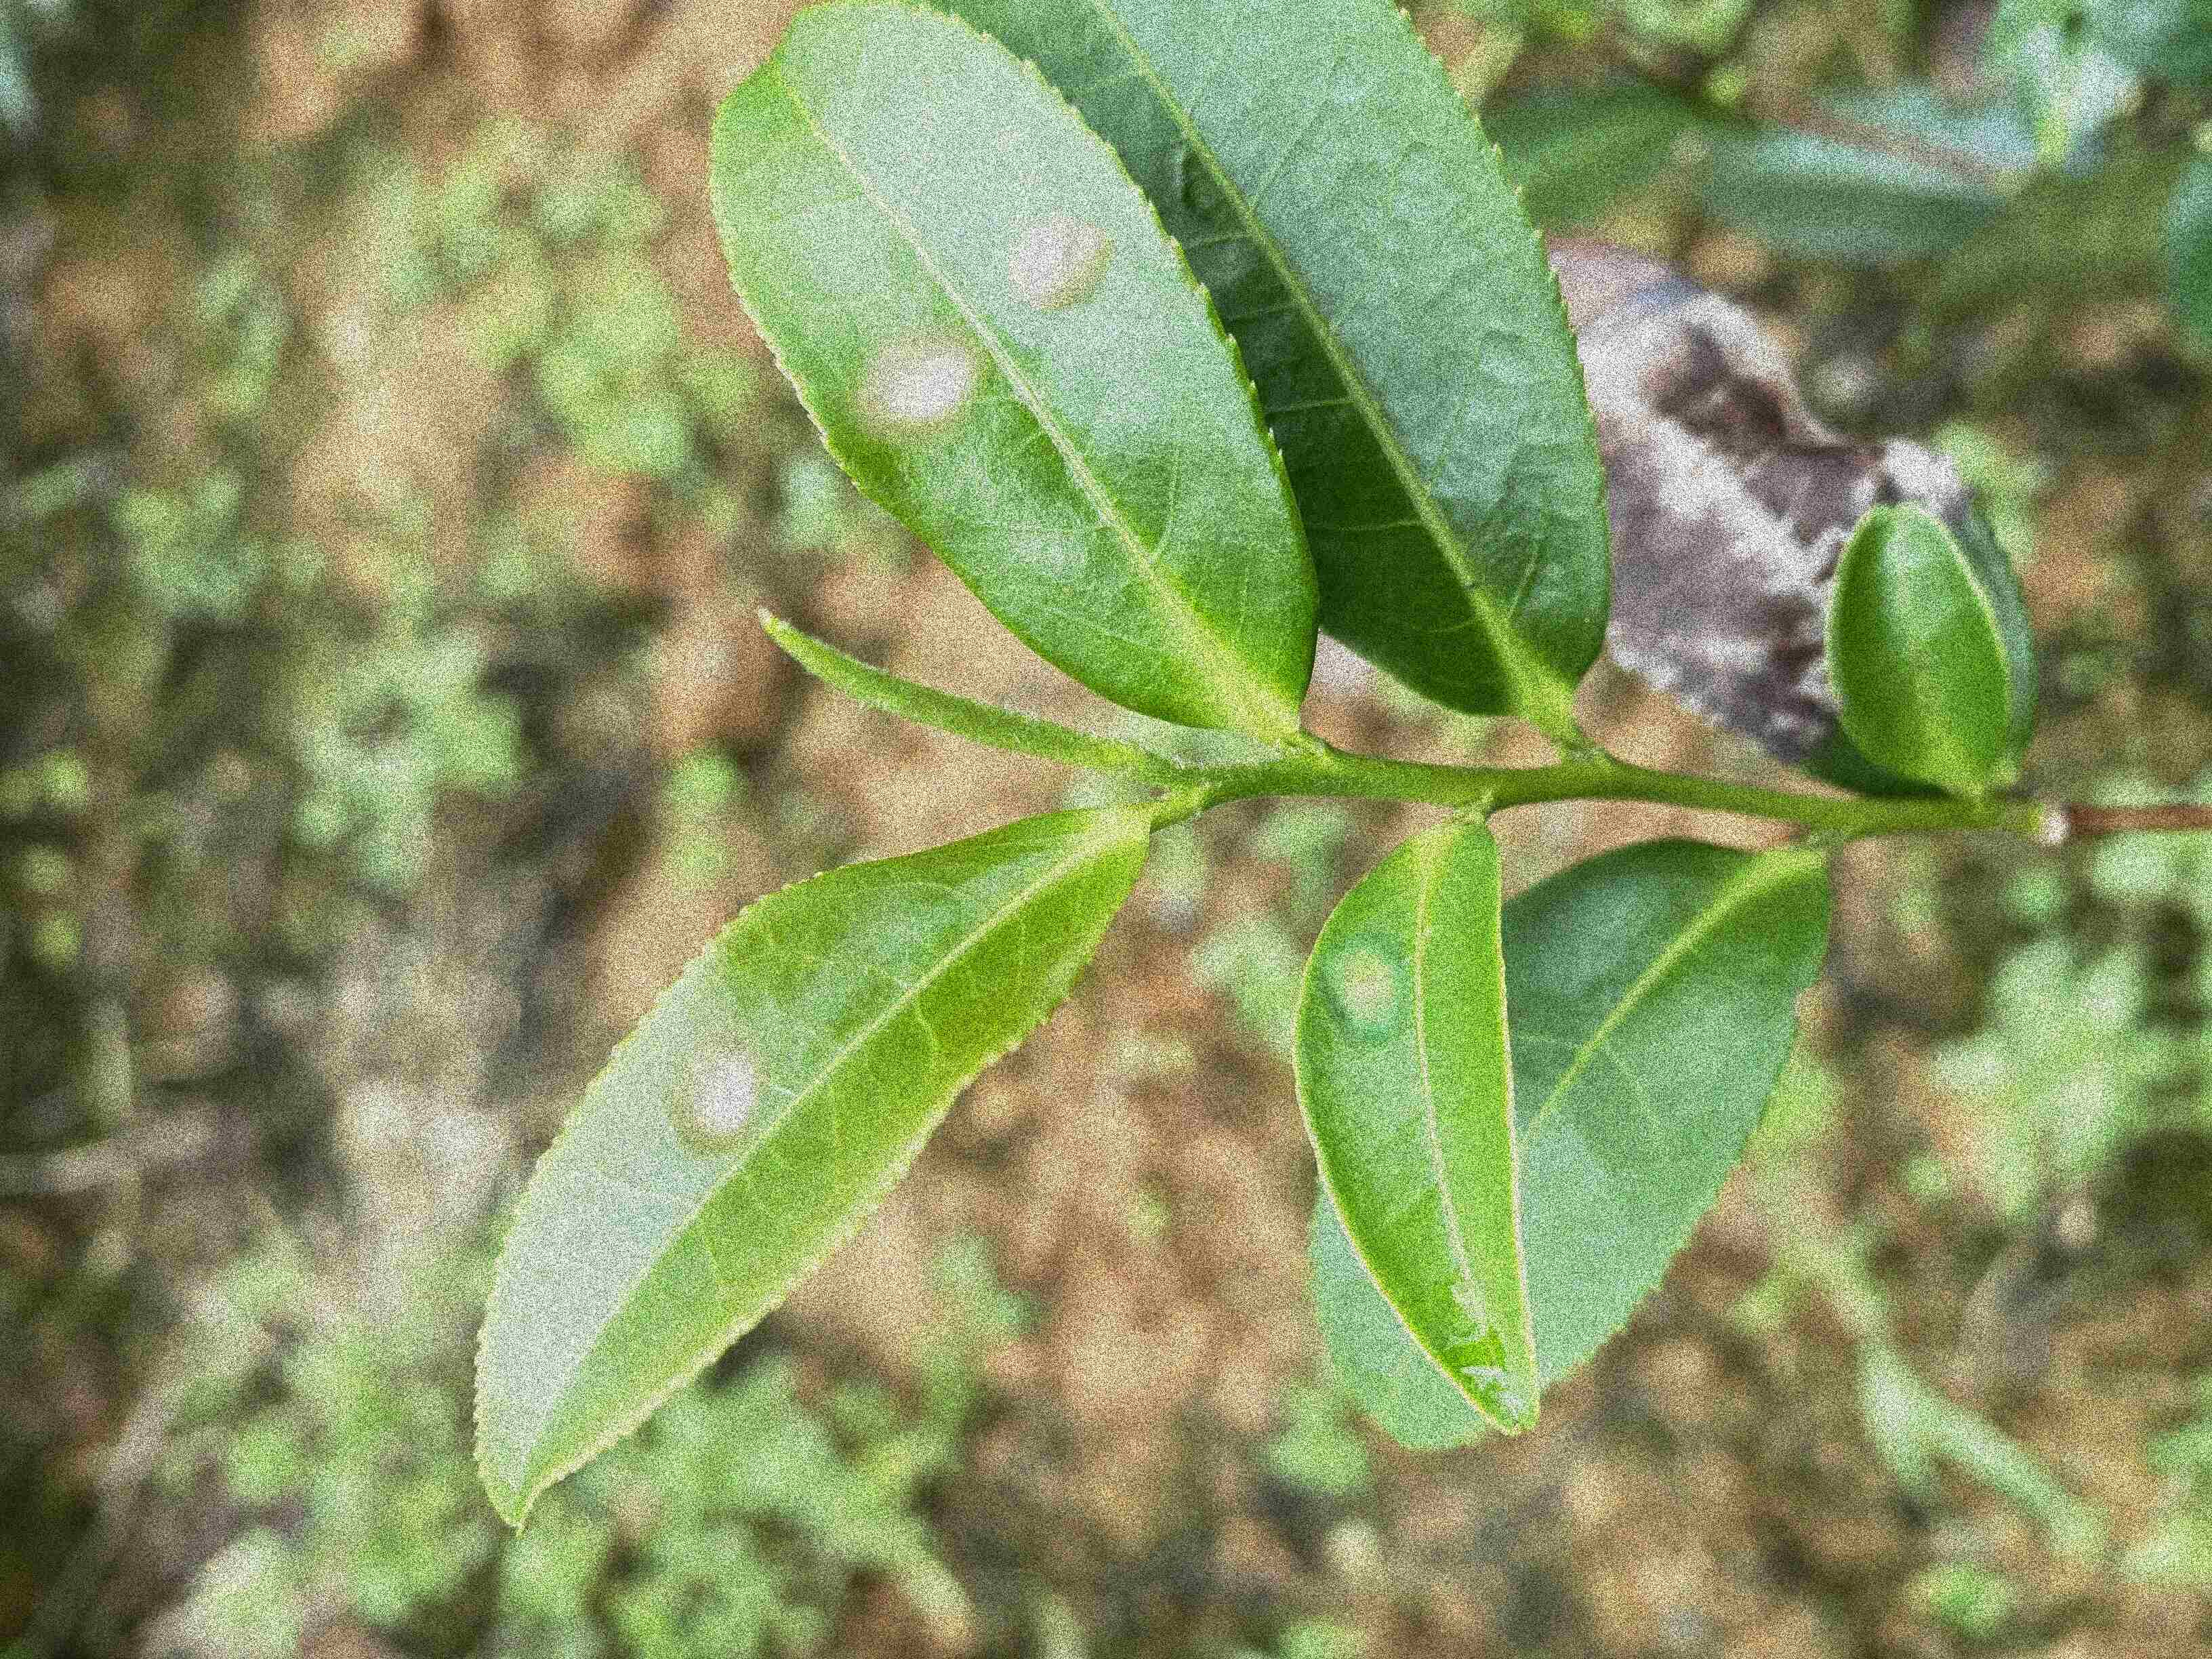chabing_high: (707, 3, 1320, 735)
chabing_low: (470, 803, 1157, 1537), (1292, 812, 1543, 1436)
